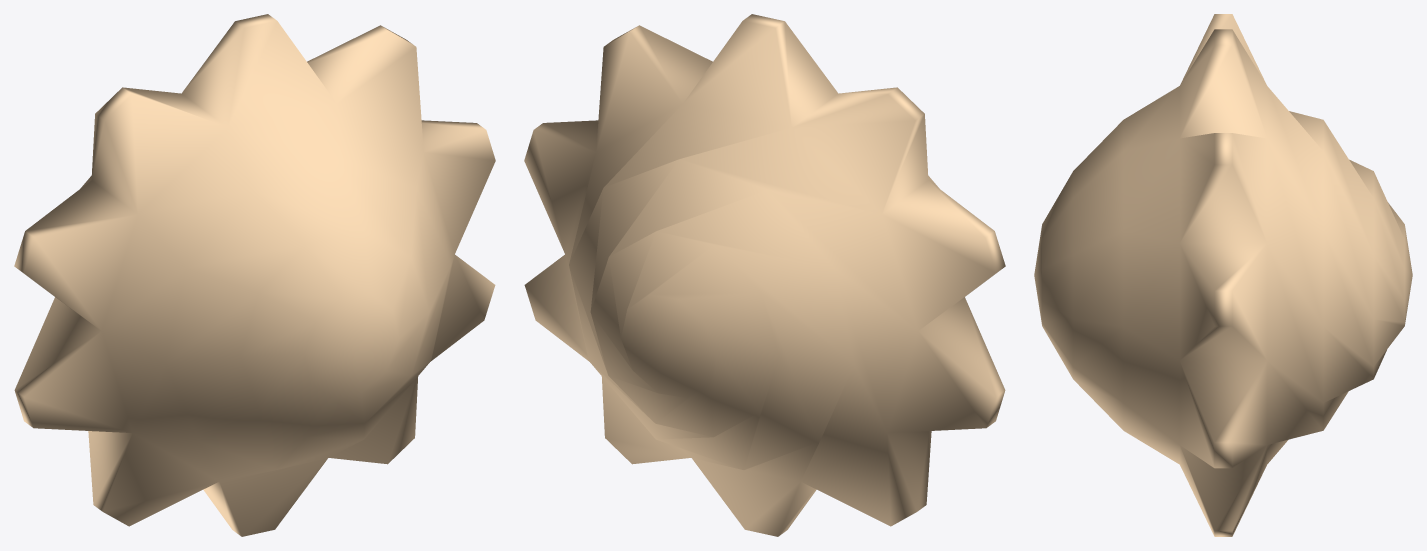
Rendered from sun.fbx.
3 renders of one model, left to right at view 1: azimuth 30°, elevation 25°; view 2: azimuth 150°, elevation 25°; view 3: azimuth 270°, elevation 25°, orthographic. The views are drawn at different scales.
Visible parts, largest first — view 1: sun; view 2: sun; view 3: sun.
Part boxes in pixels (x1,y1,x2,y2): sun: [14, 14, 495, 536]; sun: [524, 14, 1005, 536]; sun: [1034, 14, 1412, 536].
Size of the model in its own units: 148 by 153 by 110.
